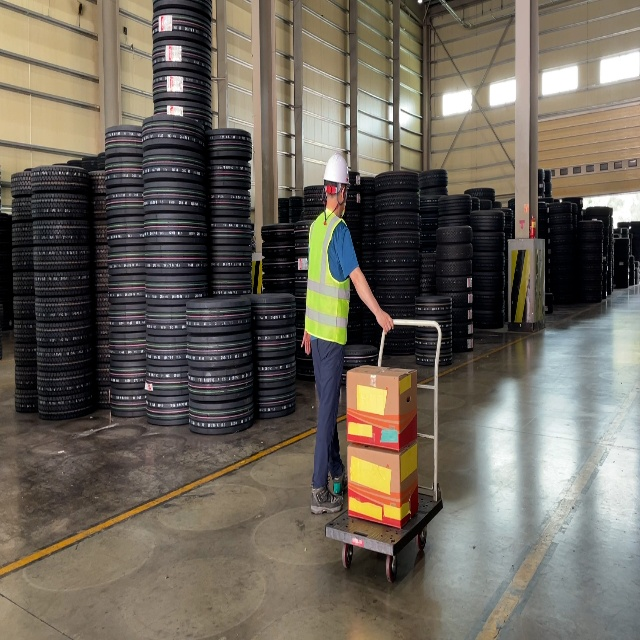Box: (347, 440, 418, 530), (346, 364, 418, 452)
Worker: (301, 151, 394, 515)
